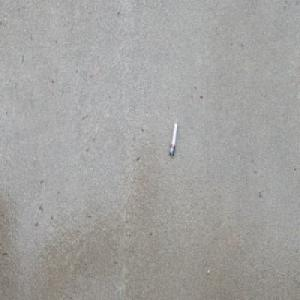Battery: (170, 122, 178, 157)
